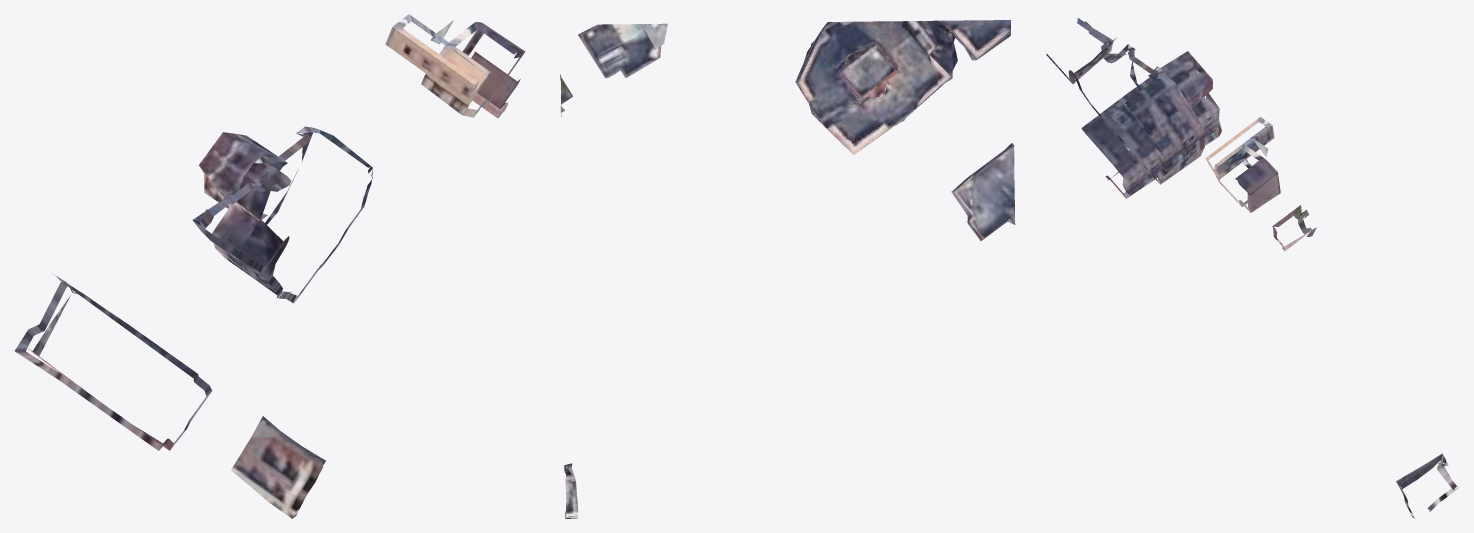
The picture shows the model from 3 angles, left to right: view 1: azimuth 30°, elevation 25°; view 2: azimuth 150°, elevation 25°; view 3: azimuth 270°, elevation 25°; orthographic projection. The views are drawn at different scales.
Size of the model in its own units: 75.15 by 74.07 by 70.26.
1 material, 1 textured.
